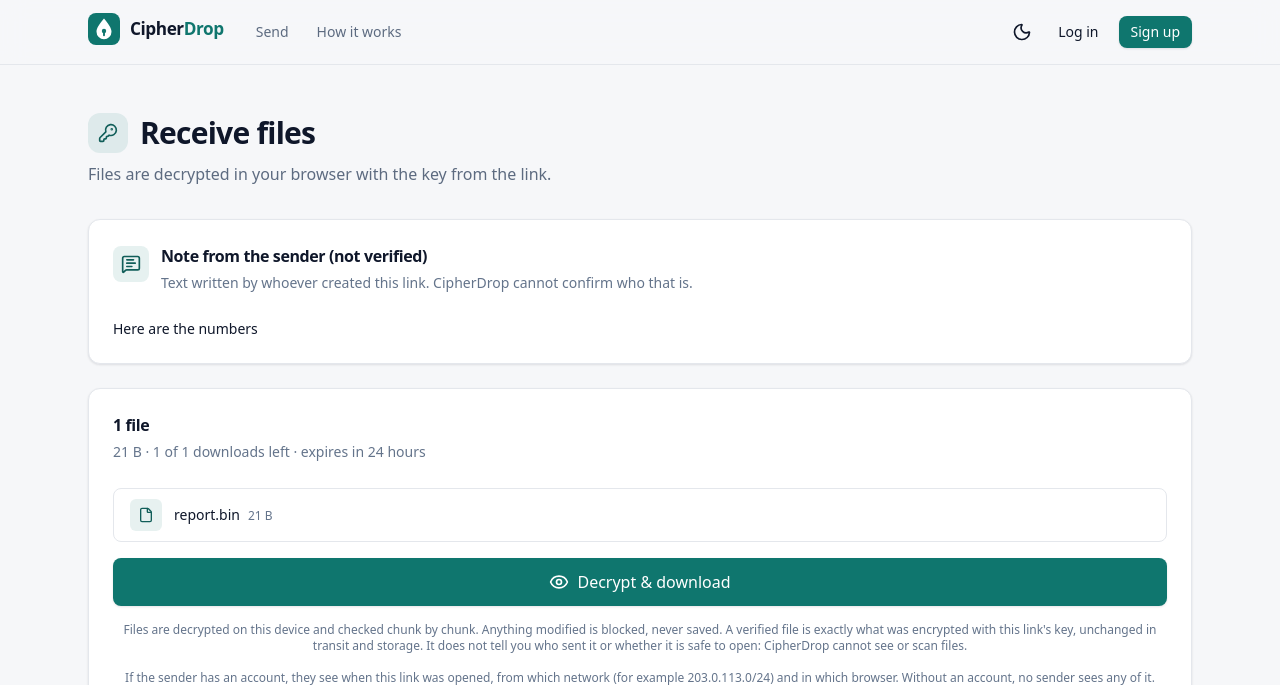
ReceivePage › the key leaves the address bar (crypto-4) › the last download drops the reload copy; the page keeps its key and its saved files
What coordinates should you click on to do the following:
click the button "Decrypt & download"
I would click on:
 (640, 582)
Its box is left=113, top=558, right=1167, bottom=606.
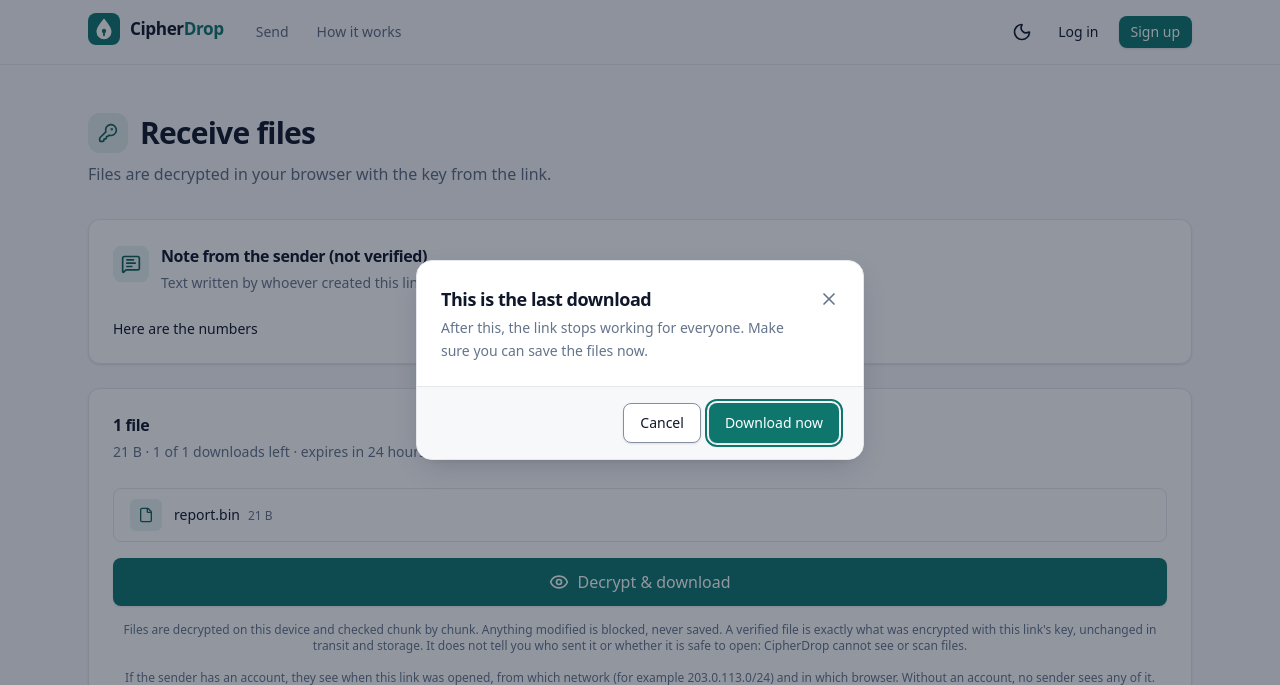
What coordinates should you click on to do the following:
click the button "Download now"
I would click on:
 (774, 423)
Its box is left=709, top=403, right=839, bottom=443.
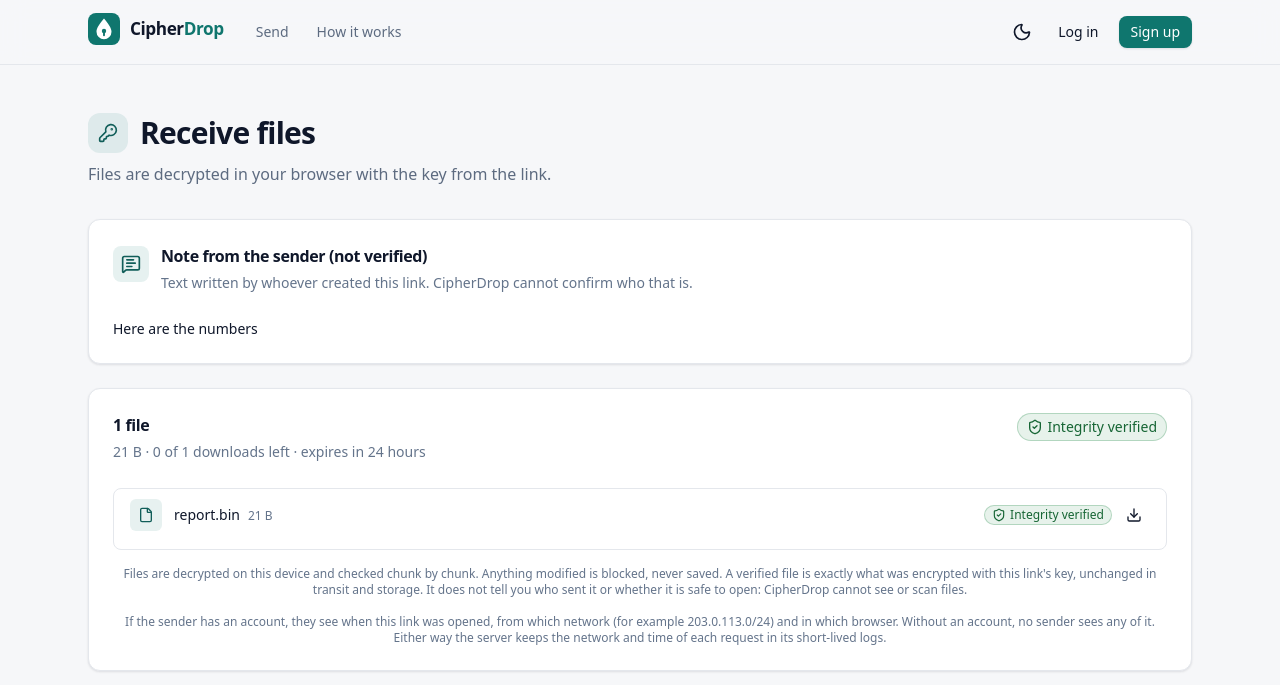
Check: the text "Integrity verified" in the row of "report.bin" is shown, box left=1010, top=506, right=1104, bottom=522
Check: the button named "Save report.bin again" is shown, box left=1118, top=498, right=1150, bottom=530
